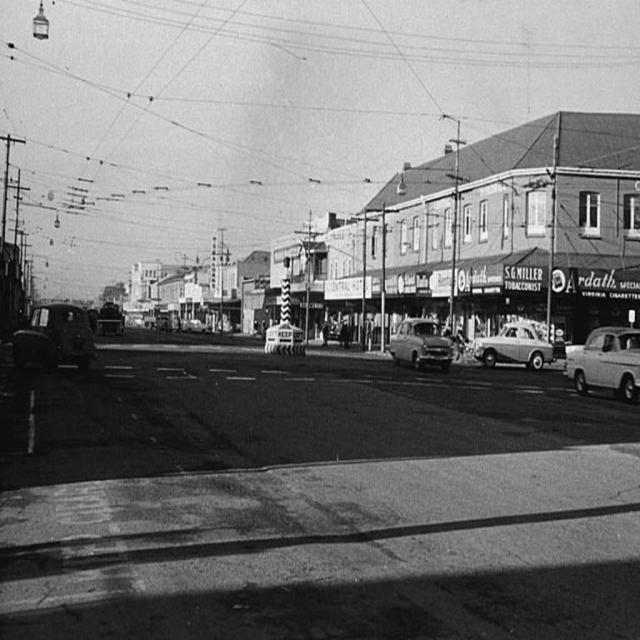car: (8, 298, 95, 367), (390, 319, 455, 365)
